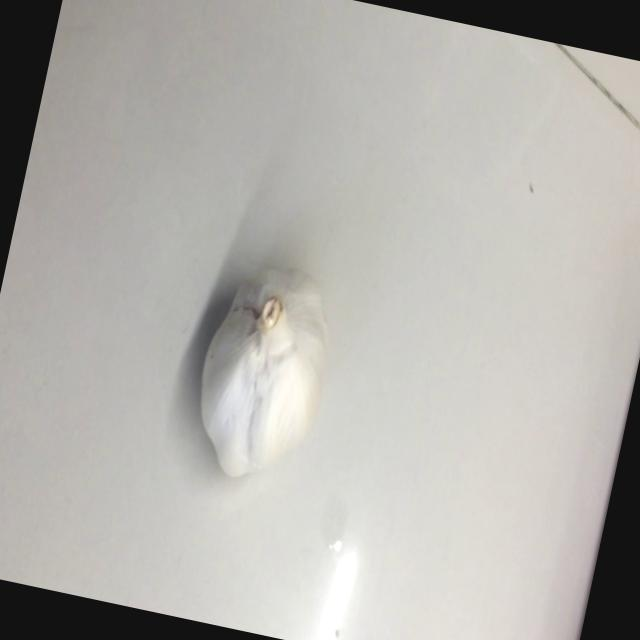bawang: (174, 247, 350, 496)
